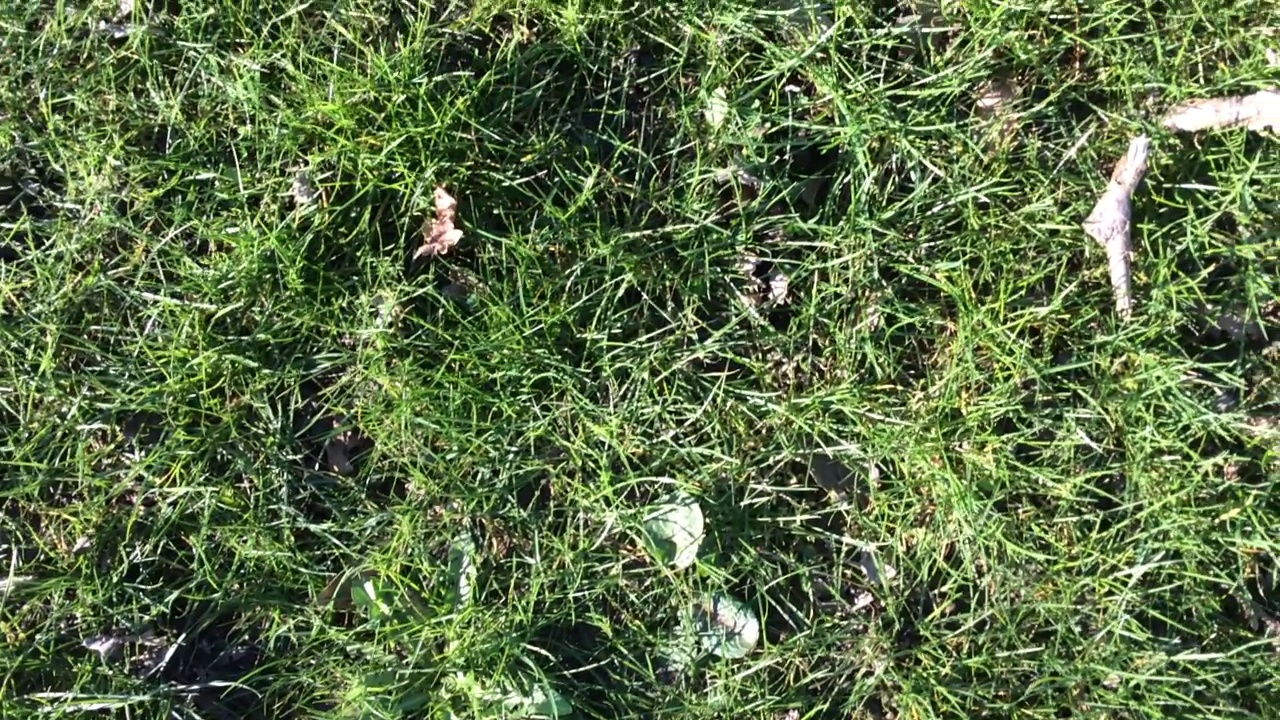rumex: (677, 599, 758, 661), (647, 485, 706, 569)
